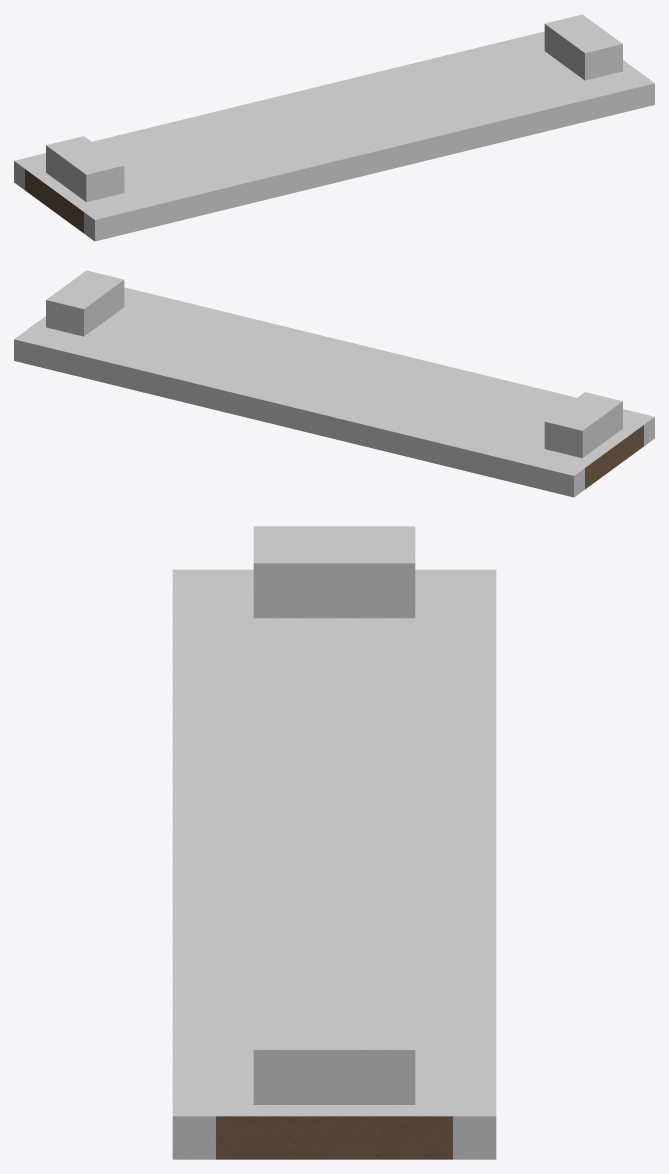
Rendered from Decor_OverheadLight.fbx.
3 renders of one model, top to bottom at view 1: azimuth 30°, elevation 25°; view 2: azimuth 150°, elevation 25°; view 3: azimuth 270°, elevation 25°, orthographic. The views are drawn at different scales.
Visible parts, largest first — view 1: Decor_OverheadLight; view 2: Decor_OverheadLight; view 3: Decor_OverheadLight.
Boxes of the visible parts, x1,y1,x2,y2 form: Decor_OverheadLight: (14,14,654,241); Decor_OverheadLight: (14,270,654,497); Decor_OverheadLight: (172,526,496,1159).
Size of the model in its own units: 400 by 33.43 by 100.
